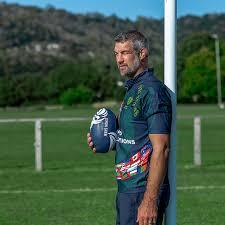ballon_rugby: (88, 107, 119, 154)
